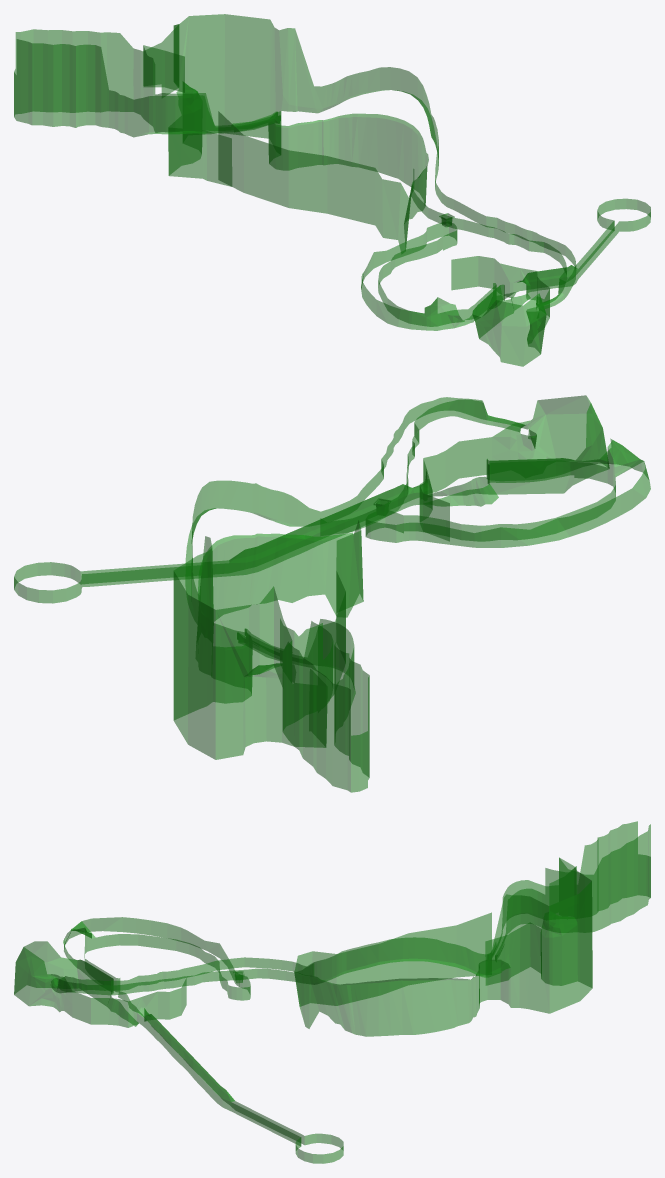
The model's file is wall.obj.
The picture shows the model from 3 angles, top to bottom: view 1: azimuth 30°, elevation 25°; view 2: azimuth 150°, elevation 25°; view 3: azimuth 270°, elevation 25°; orthographic projection. The views are drawn at different scales.
Size of the model in its own units: 478 by 177 by 642.
